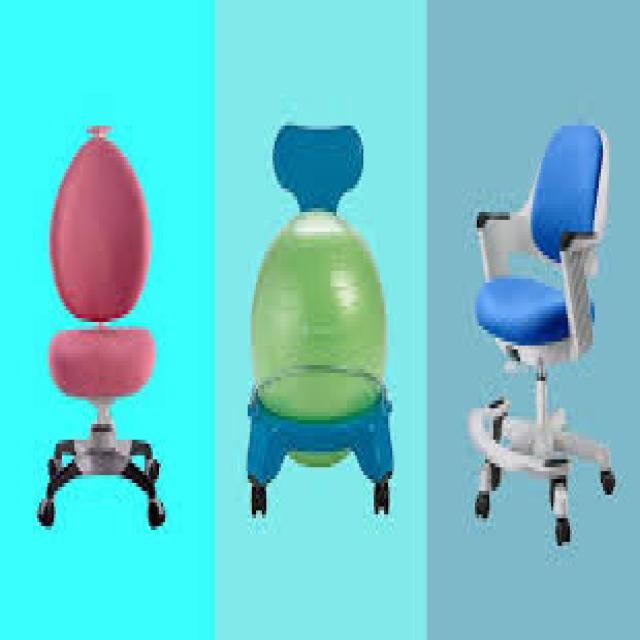chair: (228, 76, 406, 573), (436, 116, 622, 558), (35, 81, 181, 576)
